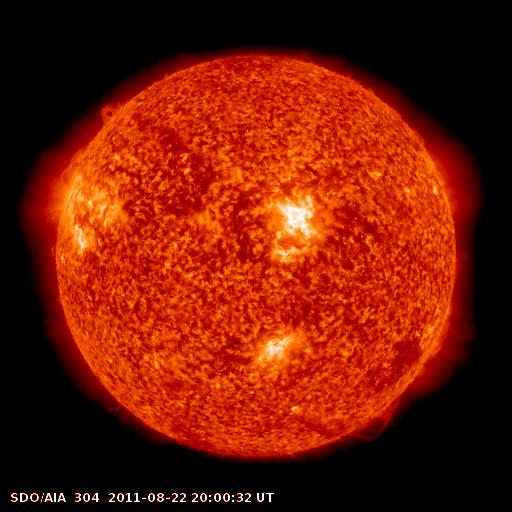prominence: (343, 394, 408, 445), (420, 305, 455, 364), (89, 96, 128, 128)
